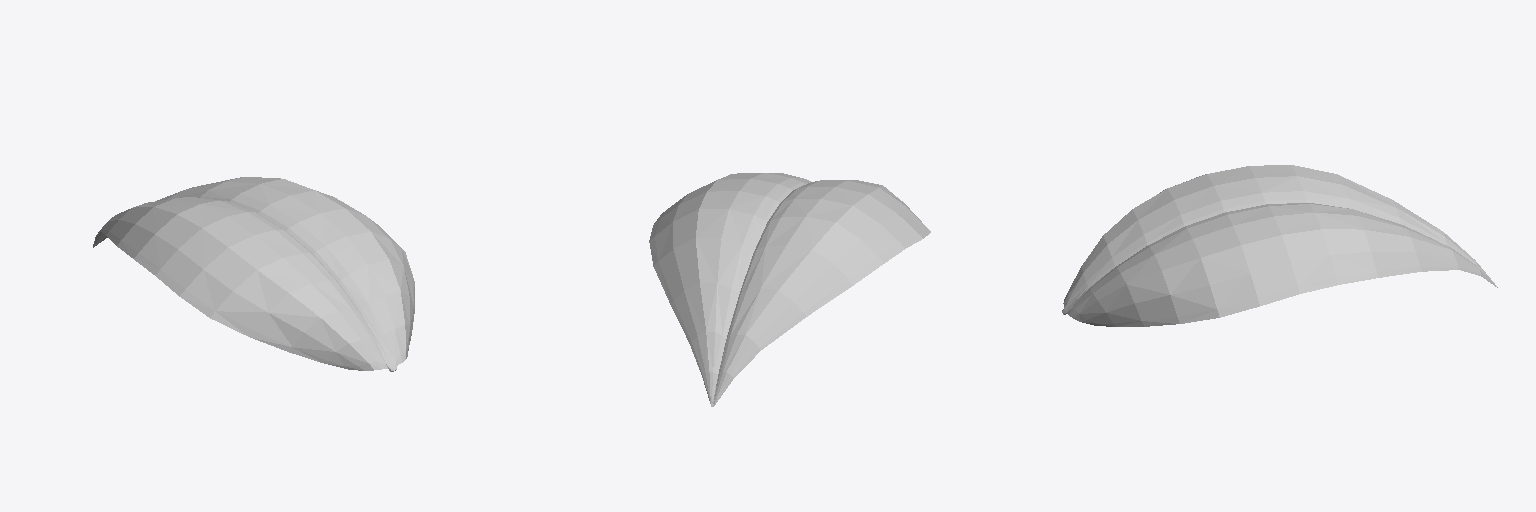
File: peashooter_hair.obj
3 renders of one model, left to right at view 1: azimuth 30°, elevation 25°; view 2: azimuth 150°, elevation 25°; view 3: azimuth 270°, elevation 25°, orthographic.
Parts seen in each view (by area): view 1: peashooter_hair_pelo_Esfera.001; view 2: peashooter_hair_pelo_Esfera.001; view 3: peashooter_hair_pelo_Esfera.001.
Part boxes in pixels (x1,y1,x2,y2): peashooter_hair_pelo_Esfera.001: (93, 177, 414, 371); peashooter_hair_pelo_Esfera.001: (649, 173, 930, 406); peashooter_hair_pelo_Esfera.001: (1062, 165, 1497, 326).
Bounding box in the file's own units: 2.24 × 1.05 × 3.55.